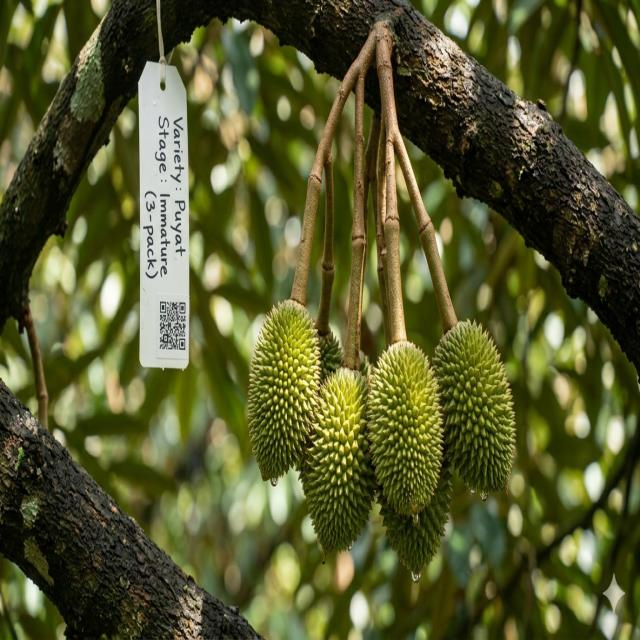immature: (364, 341, 448, 544), (431, 316, 519, 500), (300, 365, 376, 558), (246, 298, 324, 479), (317, 326, 344, 374), (359, 354, 375, 382)
